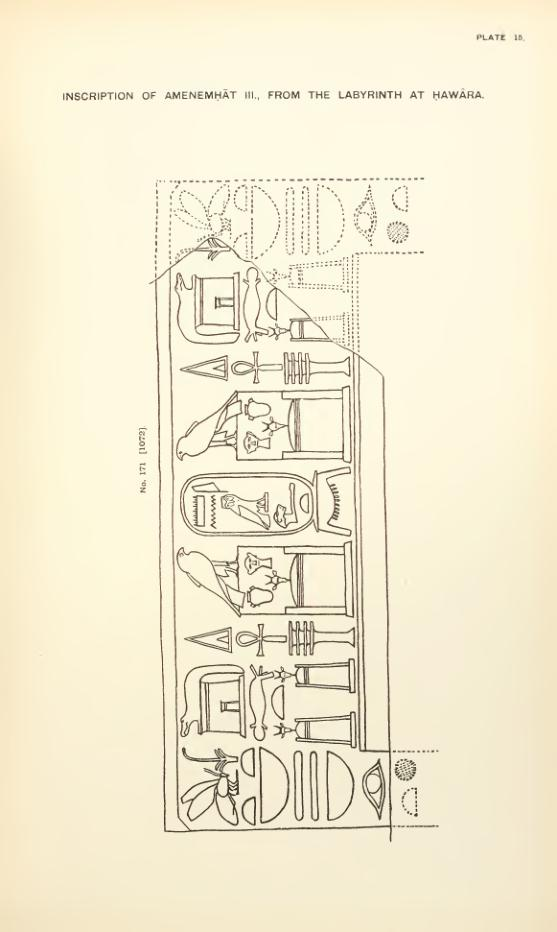circle: (178, 468, 325, 537)
